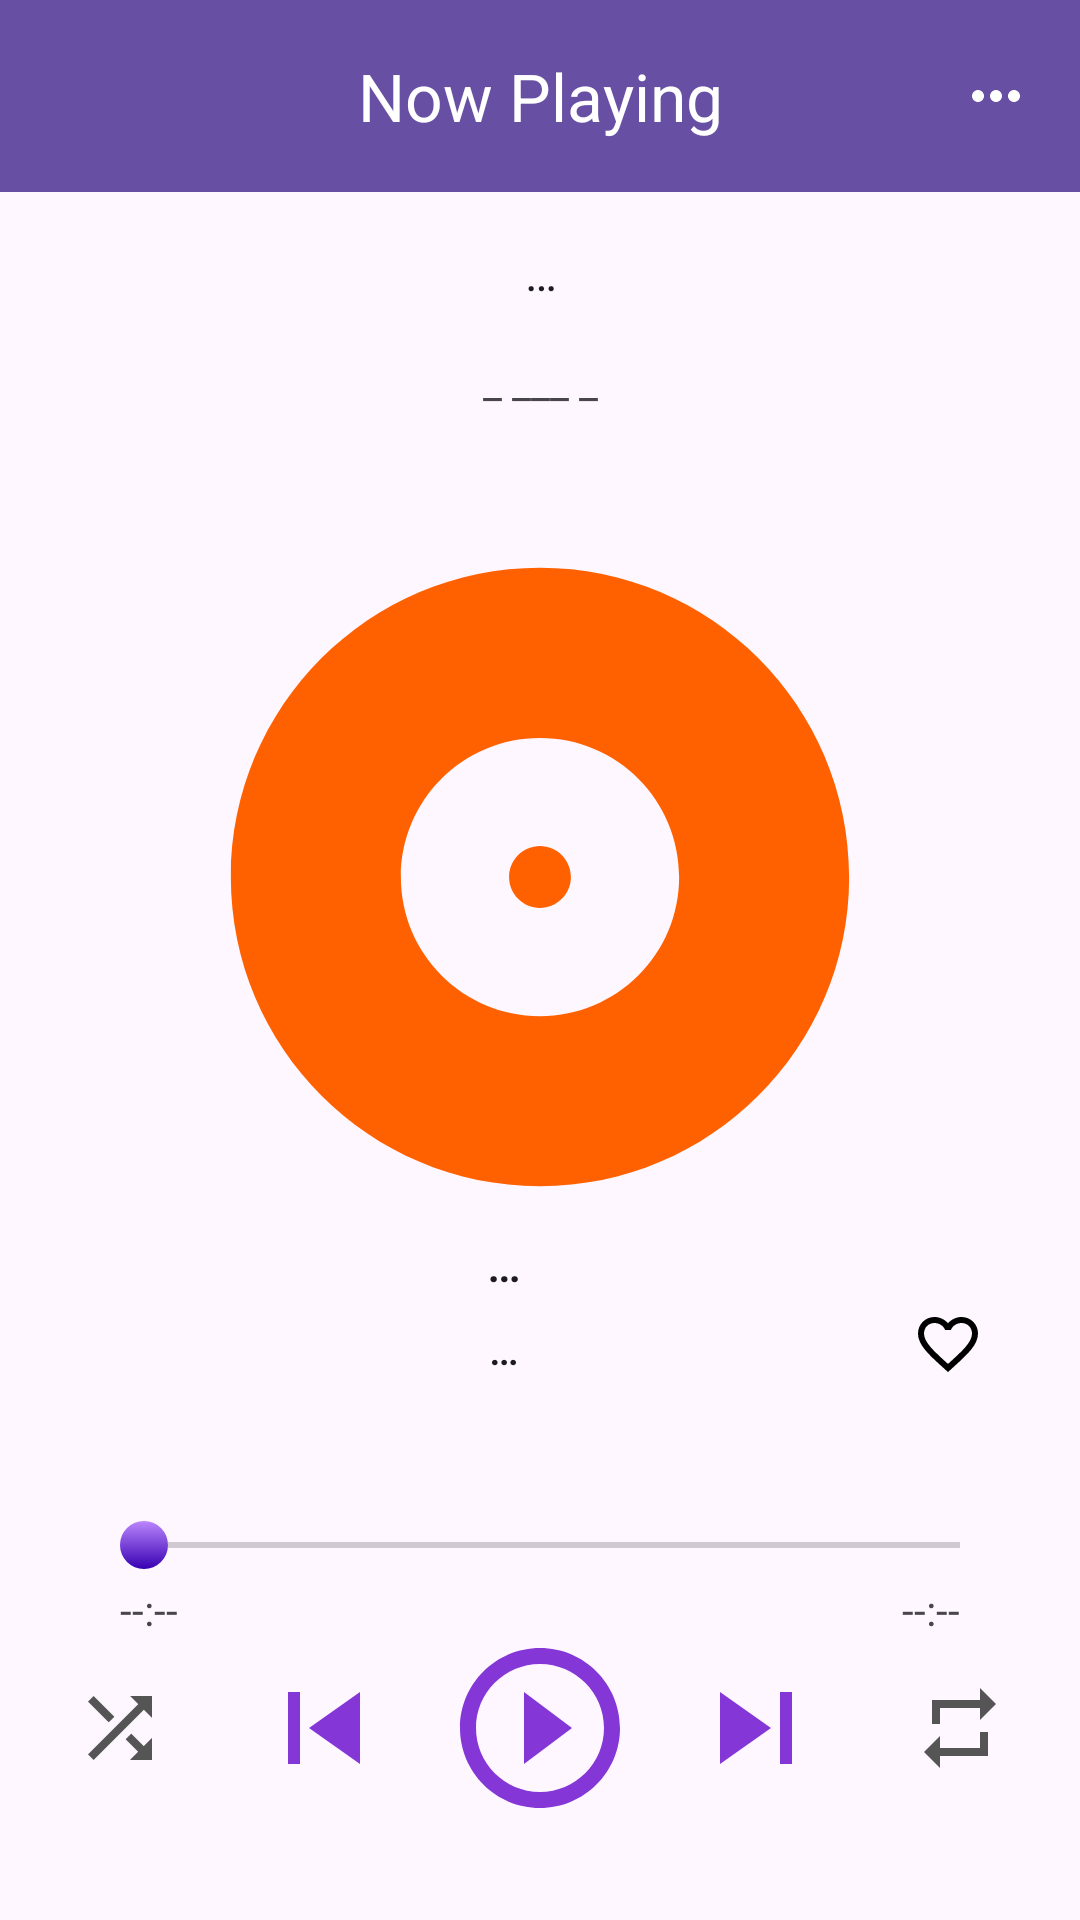

Icon bounding boxes for this 1080x1920 phone screenshot, format (x1, y1, x2, y2):
favorite off: (918, 1317, 978, 1372)
more horiz: (972, 90, 1020, 102)
play circle: (460, 1648, 620, 1808)
repeat off: (924, 1688, 996, 1768)
shuffle off: (88, 1696, 152, 1760)
skip next: (720, 1692, 792, 1764)
skip previous: (288, 1692, 360, 1764)
